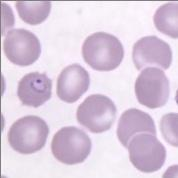Infected: (17, 71, 54, 107)
Uninfected: (116, 108, 157, 151), (8, 115, 49, 155), (75, 93, 116, 133), (127, 133, 167, 173), (52, 125, 92, 164), (132, 35, 172, 74), (82, 33, 124, 70), (135, 66, 169, 108), (3, 29, 40, 66), (56, 65, 90, 103), (152, 3, 178, 37), (16, 0, 51, 25)
